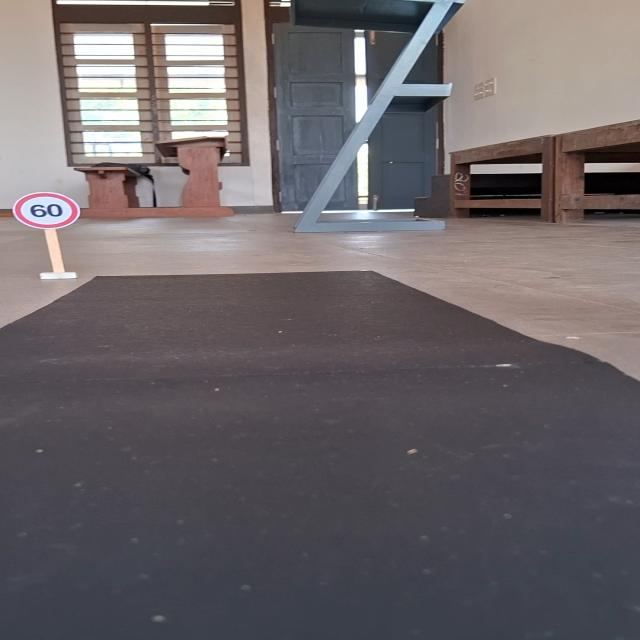Speed60: (11, 190, 80, 231)
